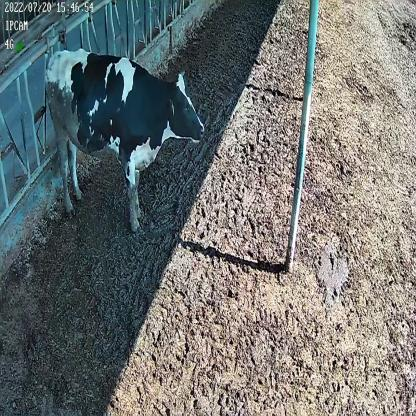cow: (45, 47, 205, 233)
